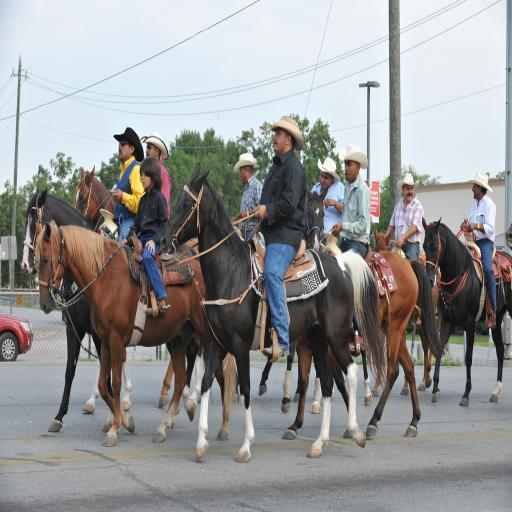horse: (20, 162, 512, 467)
